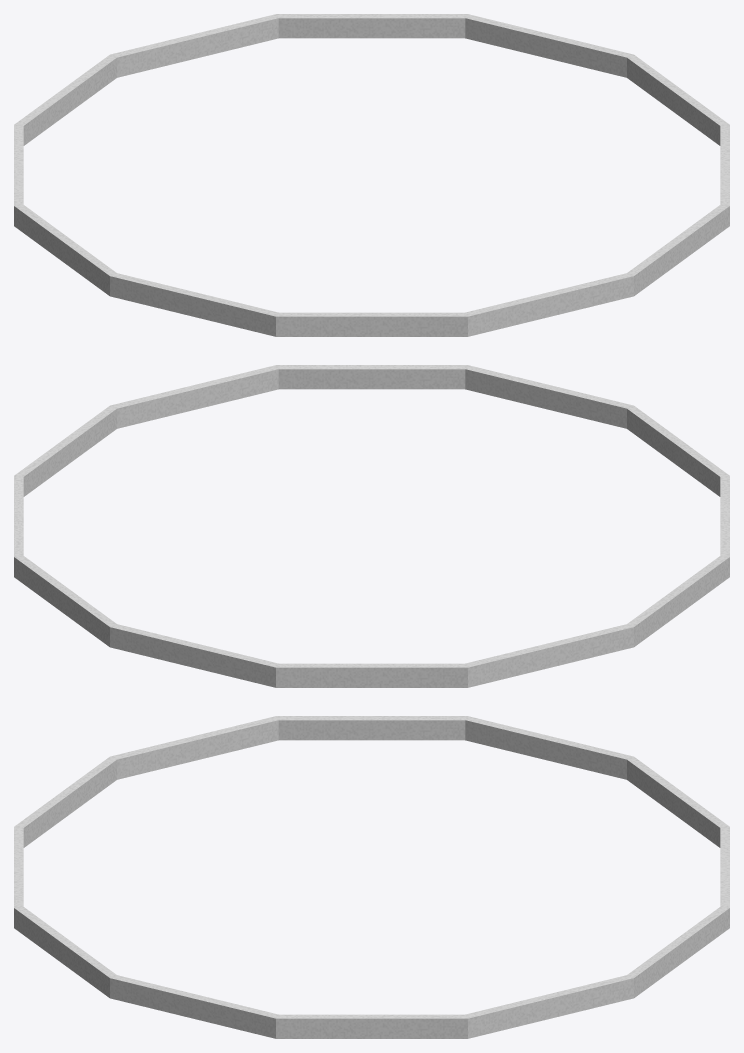
Rendered from ring.obj.
The picture shows the model from 3 angles, top to bottom: view 1: azimuth 30°, elevation 25°; view 2: azimuth 150°, elevation 25°; view 3: azimuth 270°, elevation 25°; orthographic projection.
Visible parts, largest first — view 1: ring; view 2: ring; view 3: ring.
Part boxes in pixels (bbox=[...]): ring: bbox=[14, 14, 729, 336]; ring: bbox=[14, 365, 729, 687]; ring: bbox=[14, 716, 729, 1038].
Bounding box in the file's own units: 2 × 0.0625 × 2.
